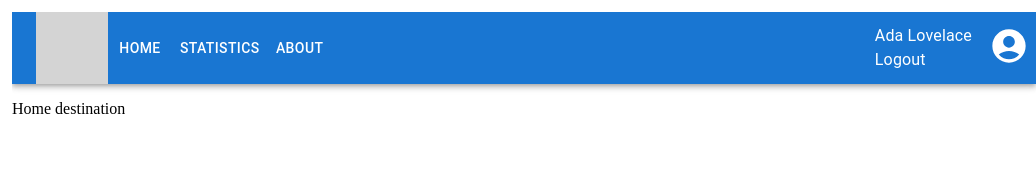
Test case: header displays the user and supports navigation
This screenshot has width=1036, height=172.
Expected: the text "Ada Lovelace" is shown, [875, 24, 989, 48]
Click the button "Statistics": (220, 48) [172, 30, 268, 66]
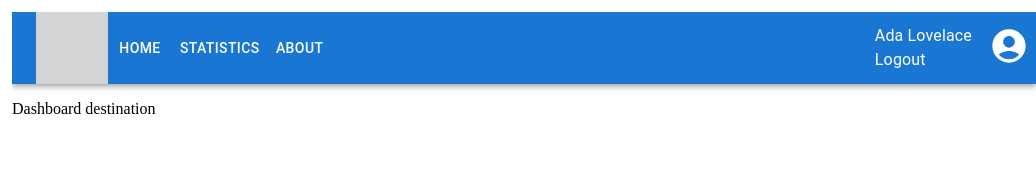
Now the text "Dashboard destination" is shown, box [12, 100, 156, 117]
